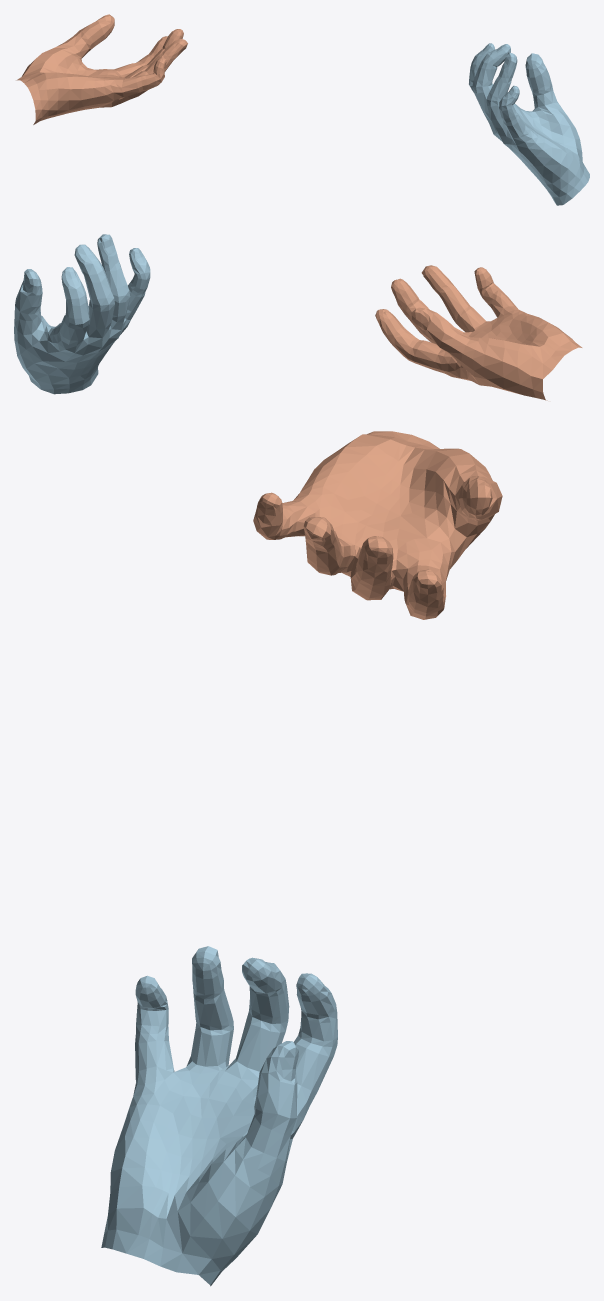
Rendered from frame_000.glb.
The picture shows the model from 3 angles, top to bottom: view 1: azimuth 30°, elevation 25°; view 2: azimuth 150°, elevation 25°; view 3: azimuth 270°, elevation 25°; orthographic projection. The views are drawn at different scales.
Parts seen in each view (by area): view 1: world; view 2: world; view 3: world.
Part boxes in pixels (bbox=[...]): world: bbox=[16, 14, 589, 205]; world: bbox=[14, 234, 582, 400]; world: bbox=[101, 431, 502, 1286].
Size of the model in its own units: 0.5091 by 0.207 by 0.1728.
